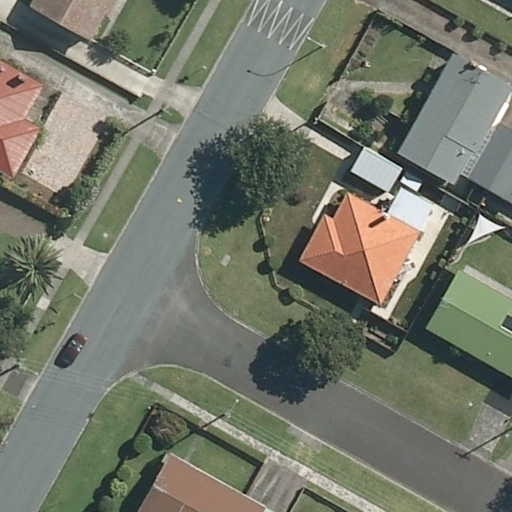DT: (220, 404, 236, 427)
